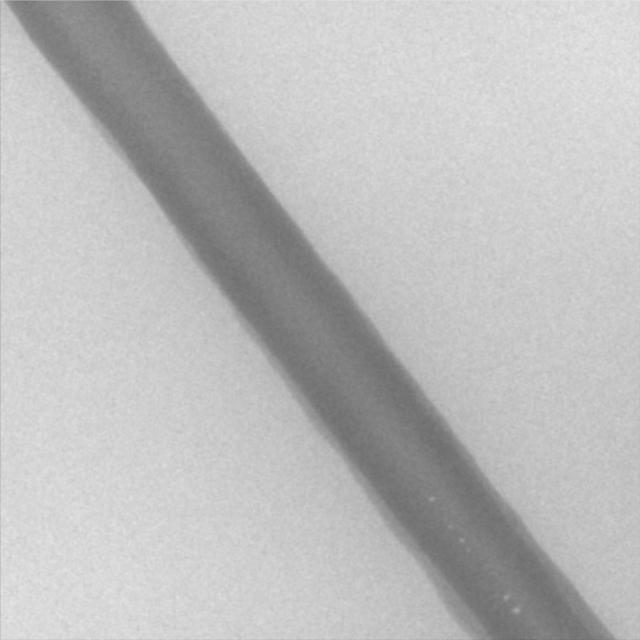air hole: (457, 535, 466, 546), (501, 593, 510, 603), (426, 494, 435, 503), (511, 606, 520, 615)
